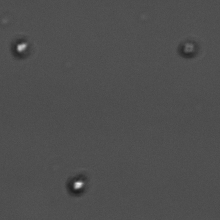Dead Cell: (177, 37, 202, 60)
Living Cell: (66, 173, 89, 194), (12, 36, 32, 56)
